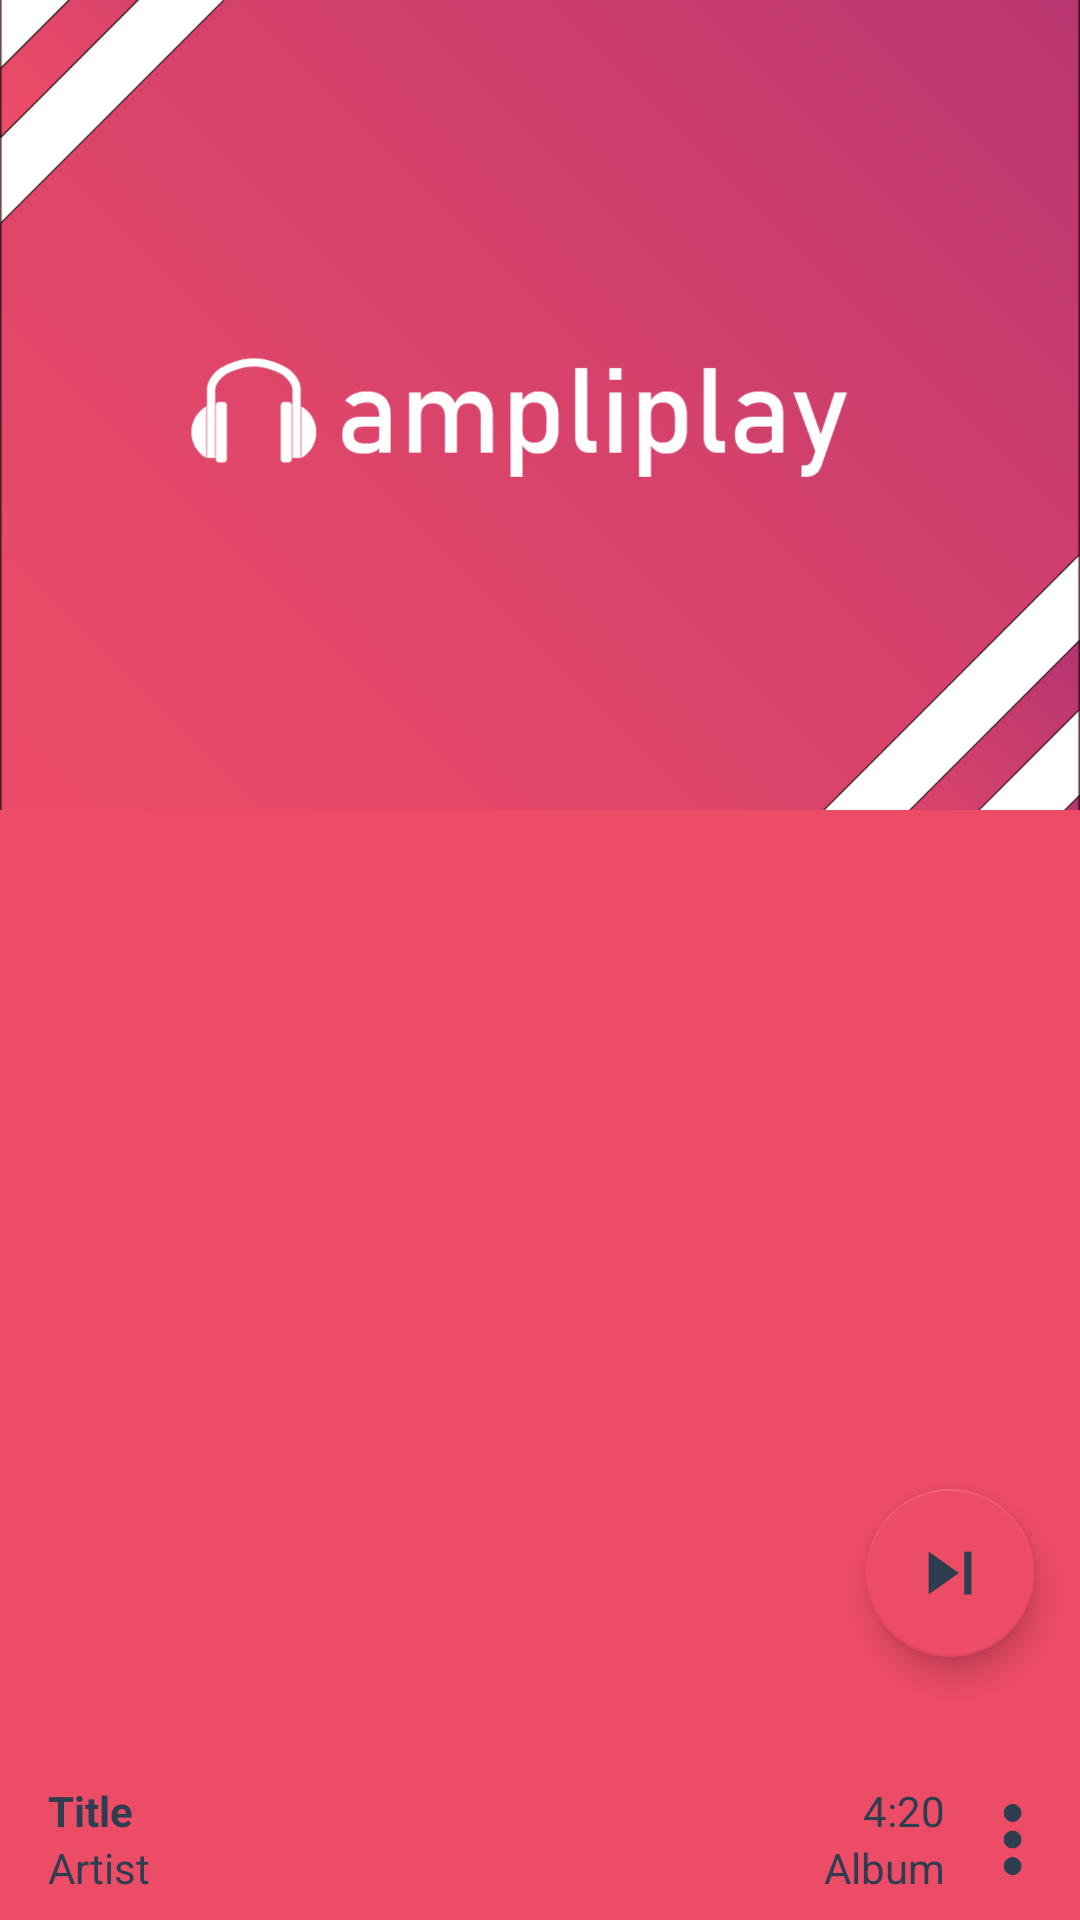

Screen size 1080*1920. Icon name, then its center in pixels as (x,y):
more menu: (1012,1839)
skip next: (955,1573)
